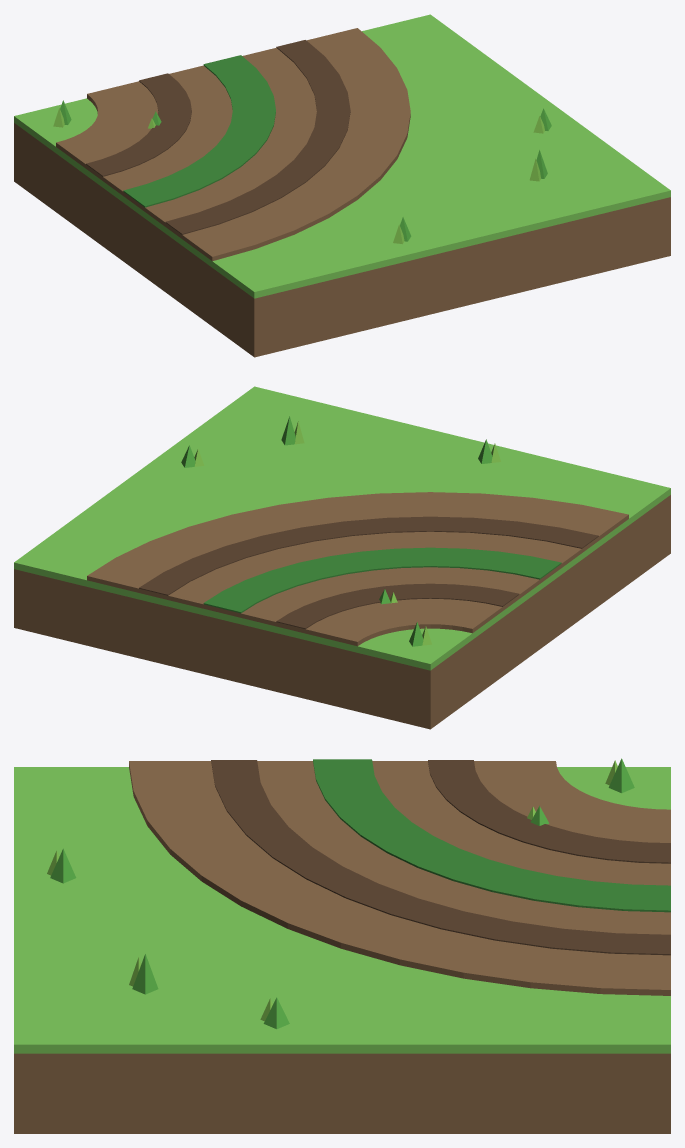
File: terra_curva.glb
3 renders of one model, top to bottom at view 1: azimuth 30°, elevation 25°; view 2: azimuth 150°, elevation 25°; view 3: azimuth 270°, elevation 25°, orthographic. The views are drawn at different scales.
Parts seen in each view (by area): view 1: corpo; view 2: corpo; view 3: corpo.
Part boxes in pixels (left/top/right/bottom): corpo: left=14, top=14, right=670, bottom=357; corpo: left=14, top=386, right=670, bottom=729; corpo: left=14, top=758, right=670, bottom=1133.
Bounding box in the file's own units: 2 × 0.42 × 2.
